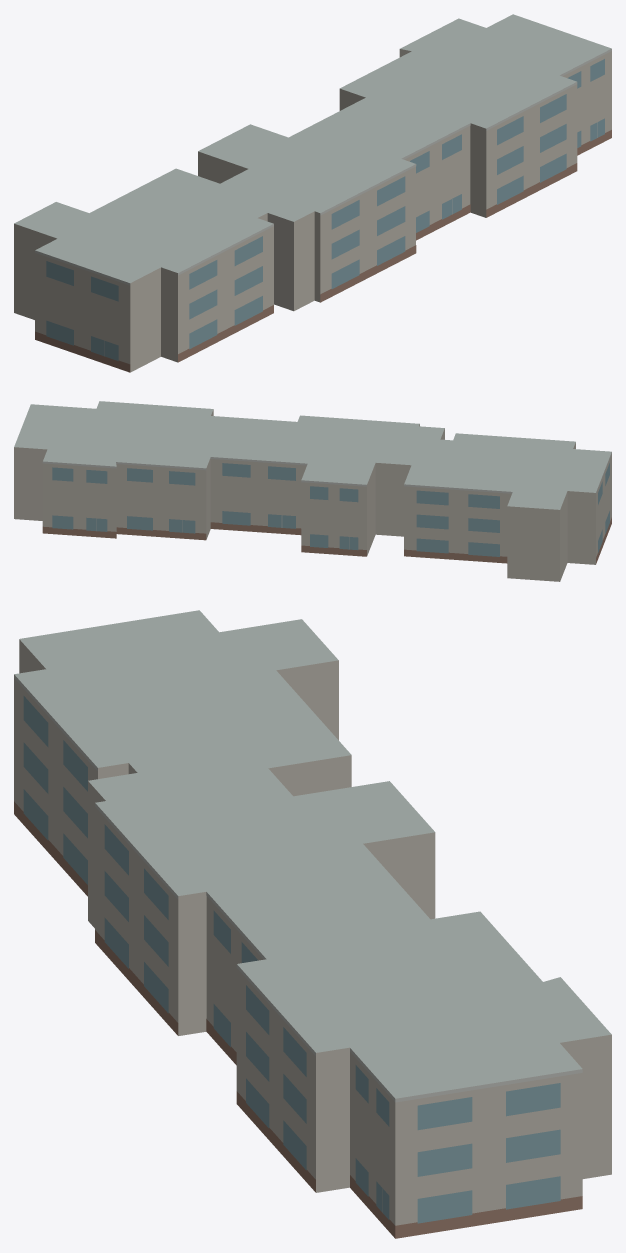
Rendered from residential-2834b8b4-2e1b-4ba5-ad73-278037451ff6.glb.
3 views of the same model, one above another, from view 1: azimuth 30°, elevation 25°; view 2: azimuth 150°, elevation 25°; view 3: azimuth 270°, elevation 25° (orthographic). The views are drawn at different scales.
Visible parts, largest first — view 1: residential-2834b8b4-2e1b-4ba5-ad73-278037451ff6.tmp; view 2: residential-2834b8b4-2e1b-4ba5-ad73-278037451ff6.tmp; view 3: residential-2834b8b4-2e1b-4ba5-ad73-278037451ff6.tmp.
Part boxes in pixels (bbox=[...]): residential-2834b8b4-2e1b-4ba5-ad73-278037451ff6.tmp: bbox=[14, 14, 611, 372]; residential-2834b8b4-2e1b-4ba5-ad73-278037451ff6.tmp: bbox=[14, 401, 611, 581]; residential-2834b8b4-2e1b-4ba5-ad73-278037451ff6.tmp: bbox=[14, 610, 611, 1238].
Size of the model in its own units: 68.5 by 9.15 by 35.42.
